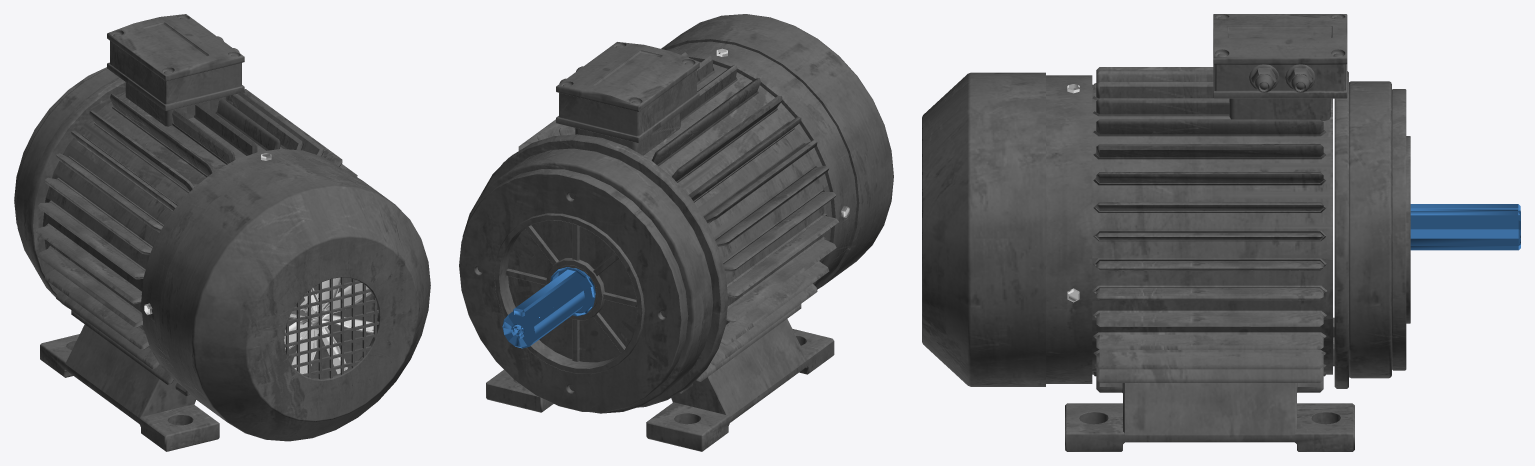
File: motor.glb
3 views of the same model, side by side, from view 1: azimuth 30°, elevation 25°; view 2: azimuth 150°, elevation 25°; view 3: azimuth 270°, elevation 25° (orthographic). The views are drawn at different scales.
Parts seen in each view (by area): view 1: Body, Vent; view 2: Body, Shaft; view 3: Body, Shaft.
Part boxes in pixels (<box>): Body: <box>14,14,430,451</box>; Vent: <box>284,277,373,374</box>; Body: <box>459,14,893,451</box>; Shaft: <box>502,267,595,348</box>; Body: <box>922,14,1410,451</box>; Shaft: <box>1410,204,1520,250</box>.
Size of the model in its own units: 0.2249 by 0.276 by 0.413.
4 materials, 1 textured.
